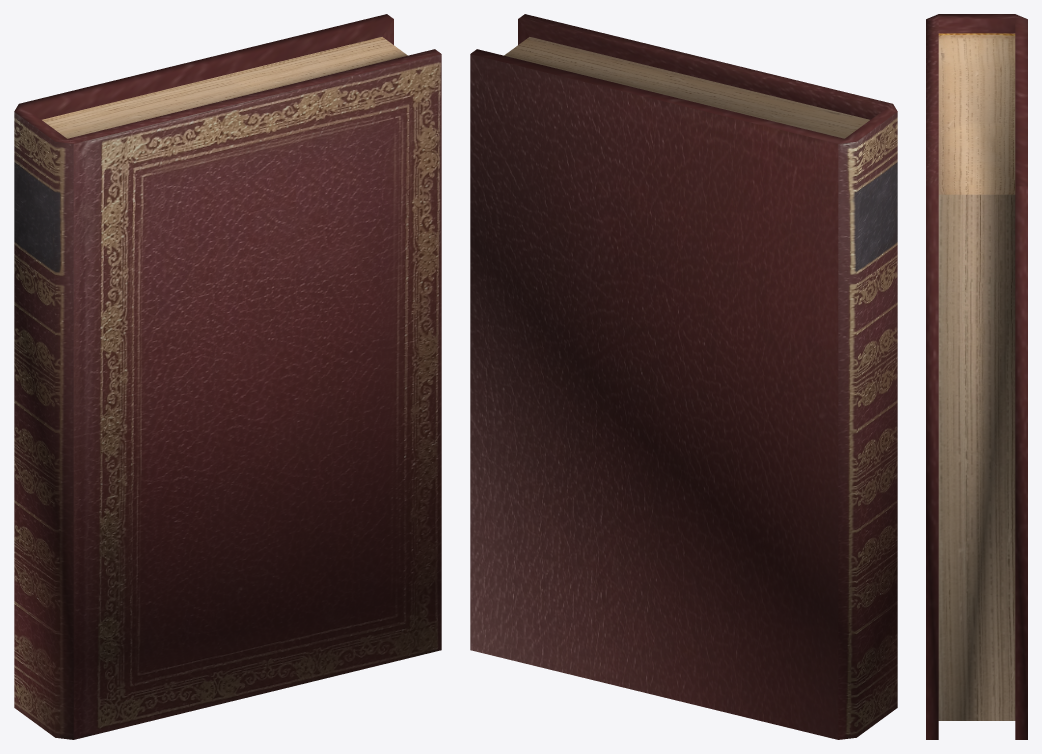
Rendered from OldBook001.obj.
3 views of the same model, side by side, from view 1: azimuth 30°, elevation 25°; view 2: azimuth 150°, elevation 25°; view 3: azimuth 270°, elevation 25° (orthographic). The views are drawn at different scales.
Parts seen in each view (by area): view 1: OldBook001; view 2: OldBook001; view 3: OldBook001.
Boxes of the visible parts, x1,y1,x2,y2 form: OldBook001: [14, 14, 441, 739]; OldBook001: [470, 14, 897, 739]; OldBook001: [926, 14, 1027, 739].
Bounding box in the file's own units: 1.4 × 2.1 × 0.35.
1 material, 1 textured.
